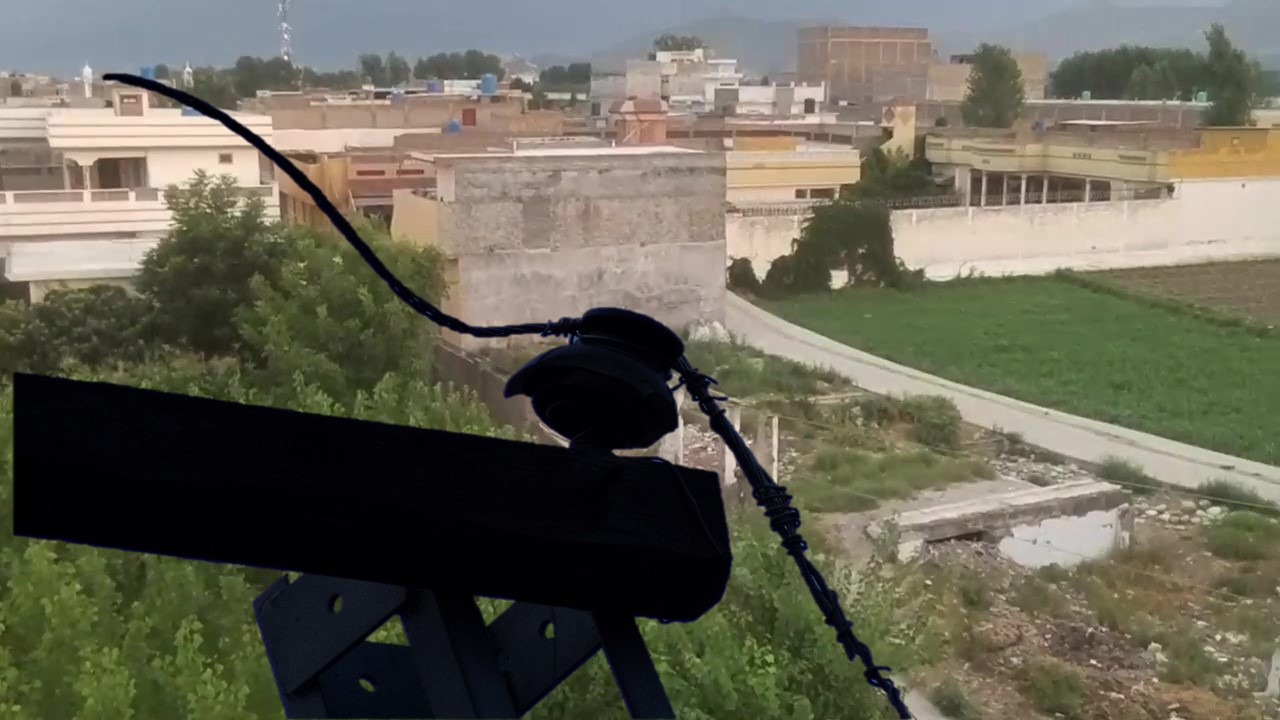defect_pin: (504, 301, 689, 451)
